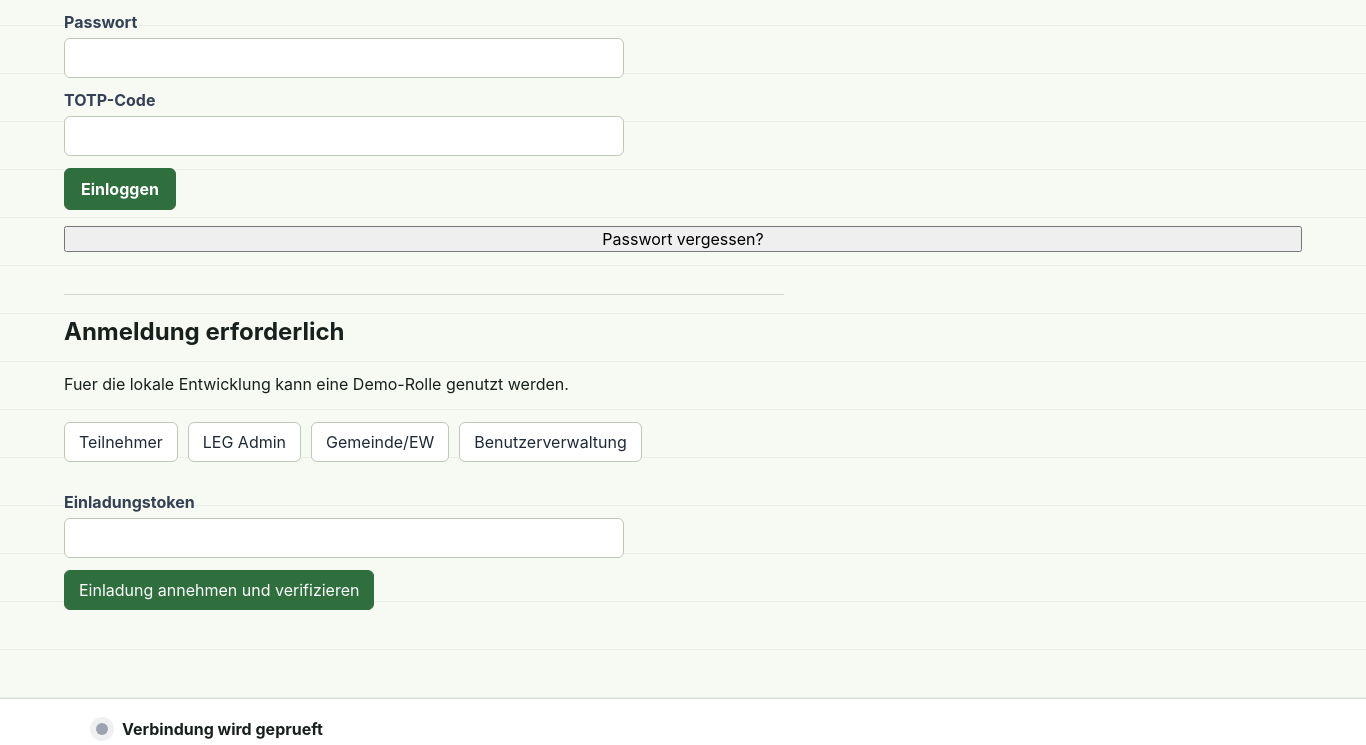
Portal shell › zeigt den passenden Workspace für LEG Admin
(page scrolled)
Step 1. Click the button "LEG Admin" → (244, 442), box [188,422,301,462]
(page scrolled)
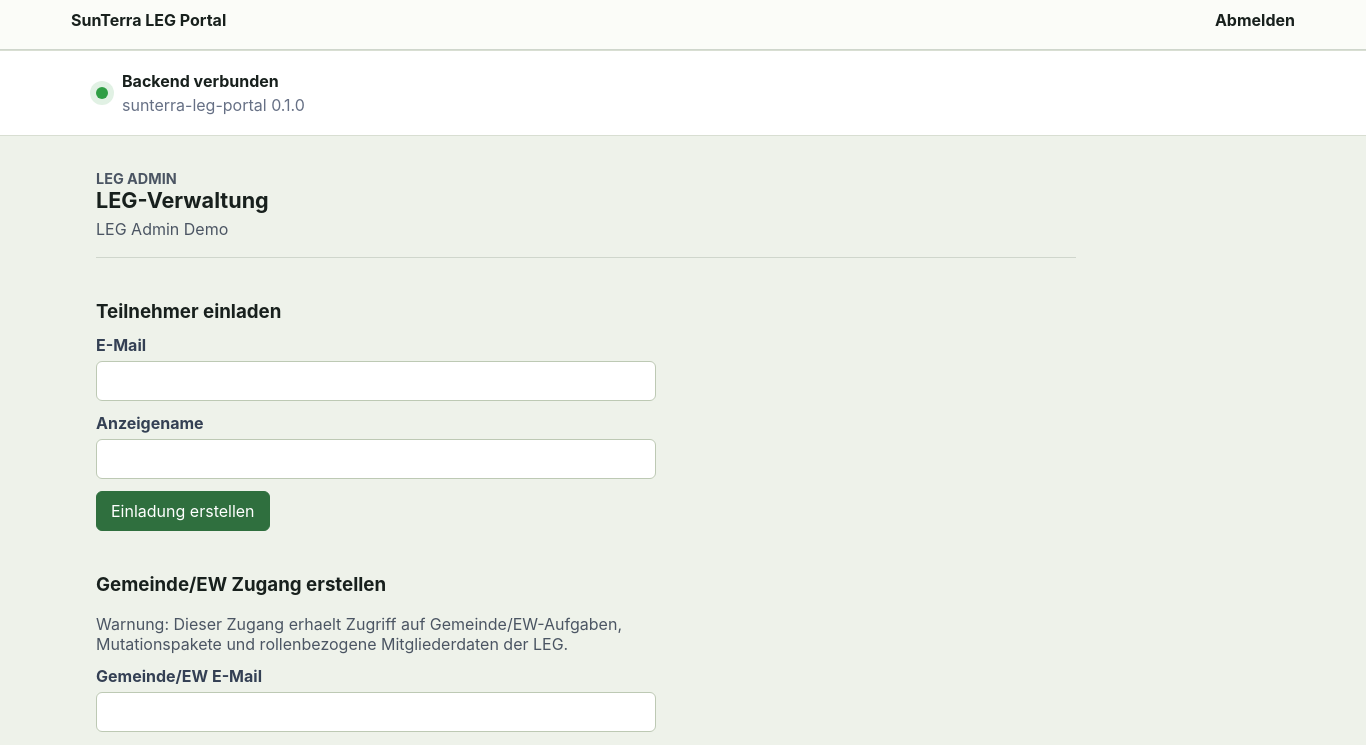
Expected: the heading "LEG-Verwaltung" is shown, [96,187,269,213]
Expected: the text "LEG Admin Demo" is shown, [96,219,228,239]
